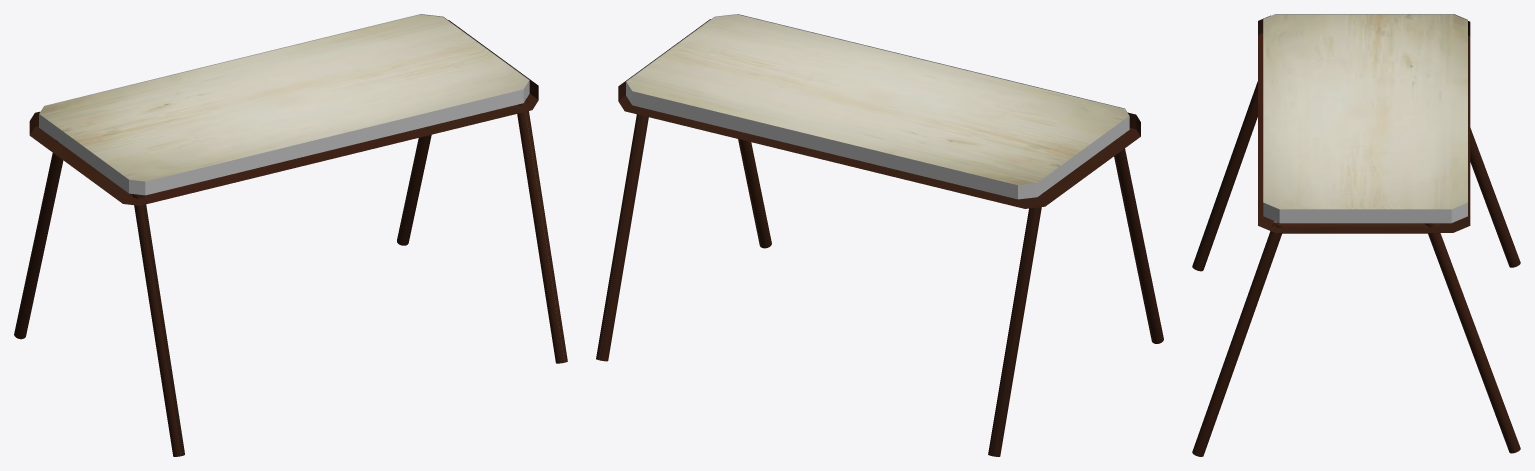
File: Mesa.Aulaobj.obj
The picture shows the model from 3 angles, left to right: view 1: azimuth 30°, elevation 25°; view 2: azimuth 150°, elevation 25°; view 3: azimuth 270°, elevation 25°; orthographic projection. The views are drawn at different scales.
Parts seen in each view (by area): view 1: Cylinder; view 2: Cylinder; view 3: Cylinder.
Boxes of the visible parts, x1,y1,x2,y2 form: Cylinder: (14,14,567,456); Cylinder: (596,14,1163,456); Cylinder: (1192,14,1520,456).
Size of the model in its own units: 4.52 by 2.6 by 3.09.
